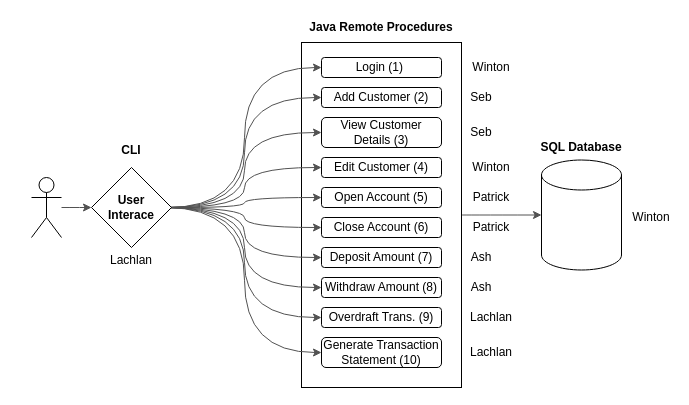
Image size: 689x405. Some labels were removed from this diagram. Here are the shapes that lost their labels. From the top down, the centre of each, then its label:
the point at 46,207: Bank Clerk
the point at 581,214: Tables (11)
